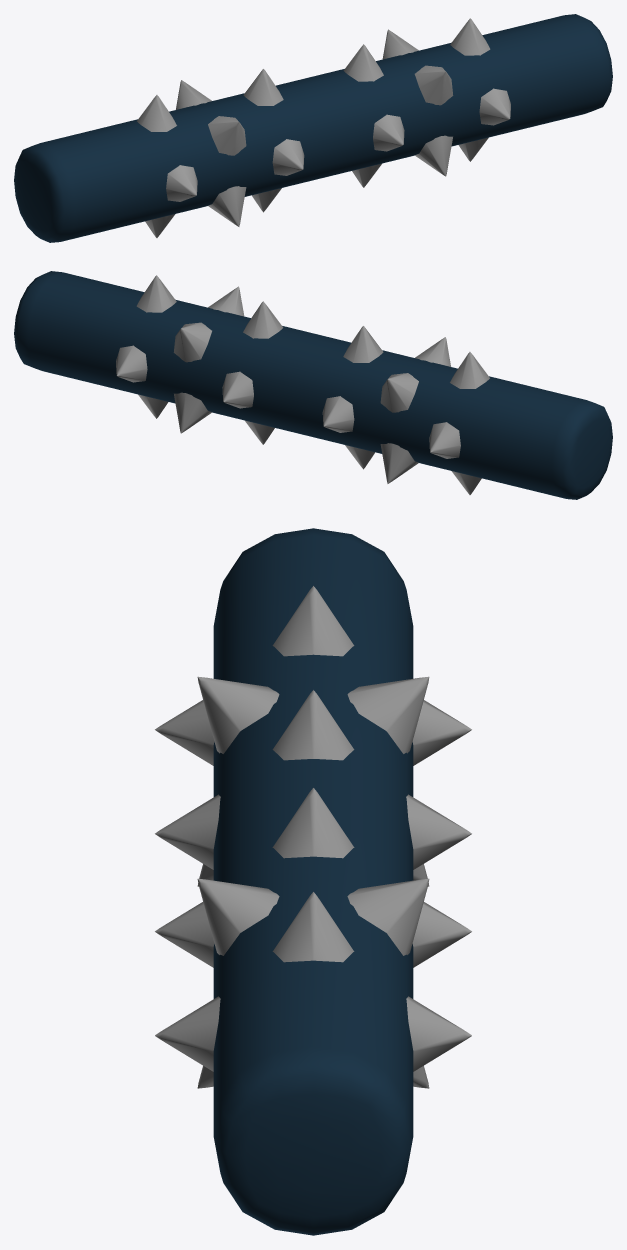
The model's file is HazardCylinder.fbx.
The picture shows the model from 3 angles, top to bottom: view 1: azimuth 30°, elevation 25°; view 2: azimuth 150°, elevation 25°; view 3: azimuth 270°, elevation 25°; orthographic projection. The views are drawn at different scales.
Parts seen in each view (by area): view 1: Hazard; view 2: Hazard; view 3: Hazard.
Boxes of the visible parts, bbox=[...] form: Hazard: bbox=[14, 14, 612, 242]; Hazard: bbox=[14, 271, 612, 499]; Hazard: bbox=[155, 528, 471, 1235].
Bounding box in the file's own units: 190 × 46.4 × 46.4.
